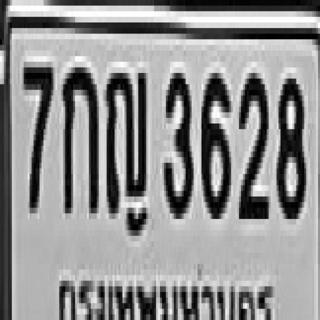A01: (61, 62, 97, 208)
A13: (105, 62, 146, 213)
N02: (237, 67, 267, 213)
N03: (162, 67, 192, 213)
N06: (199, 67, 229, 213)
N07: (22, 62, 51, 208)
N08: (275, 73, 304, 213)
